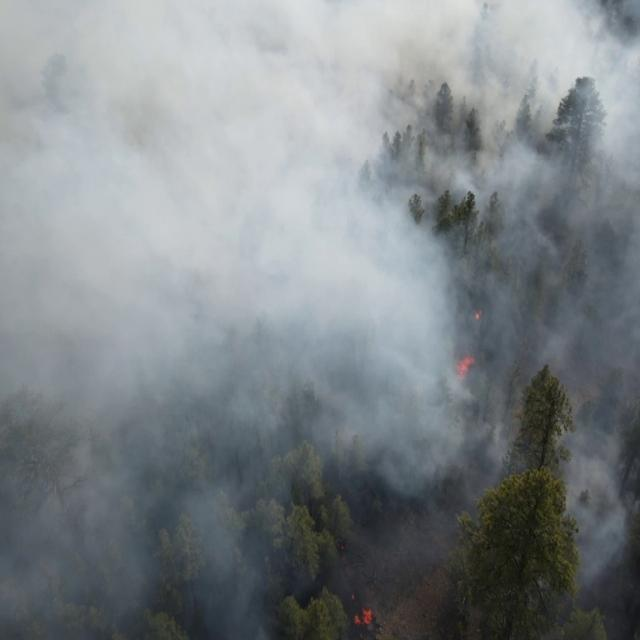fire: (350, 591, 374, 628), (454, 353, 478, 381), (332, 538, 346, 552), (474, 308, 484, 322)
smoke: (0, 0, 459, 640), (514, 0, 640, 371), (458, 0, 514, 505), (564, 371, 640, 640)
